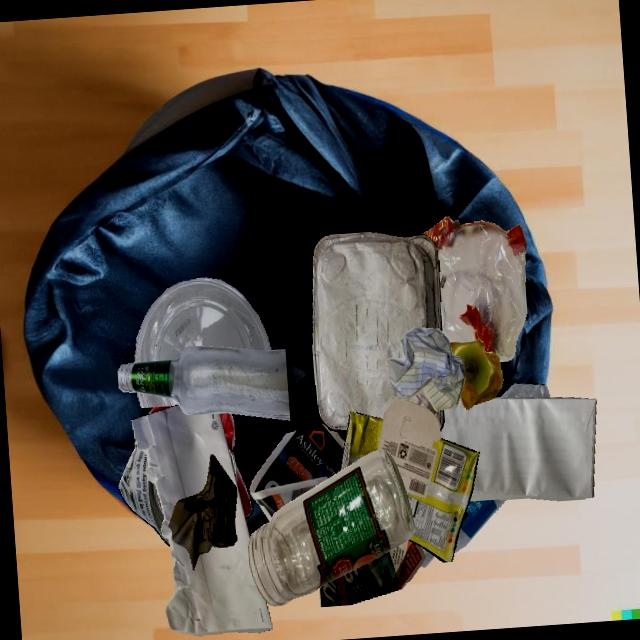biowaste: (449, 339, 503, 409)
glass: (248, 449, 415, 605), (117, 345, 290, 420)
metal: (312, 231, 441, 432), (153, 409, 226, 518), (118, 439, 170, 546)
paper: (131, 404, 272, 635), (440, 397, 596, 500), (249, 423, 344, 521), (168, 454, 237, 571), (319, 539, 425, 606), (386, 327, 465, 410), (377, 399, 440, 497)
plastic: (421, 216, 527, 361), (134, 277, 270, 363), (427, 397, 500, 552), (454, 499, 506, 552)
trash: (406, 437, 479, 562), (340, 411, 383, 471)
